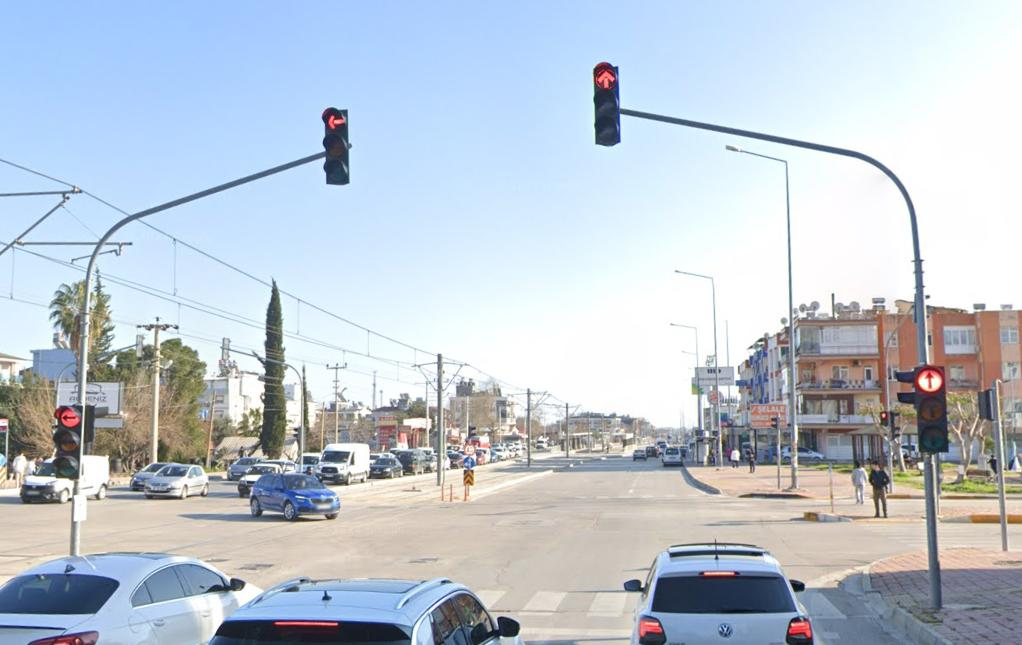redlight: (915, 365, 955, 450), (593, 63, 624, 143), (321, 107, 354, 182), (56, 404, 84, 478)
